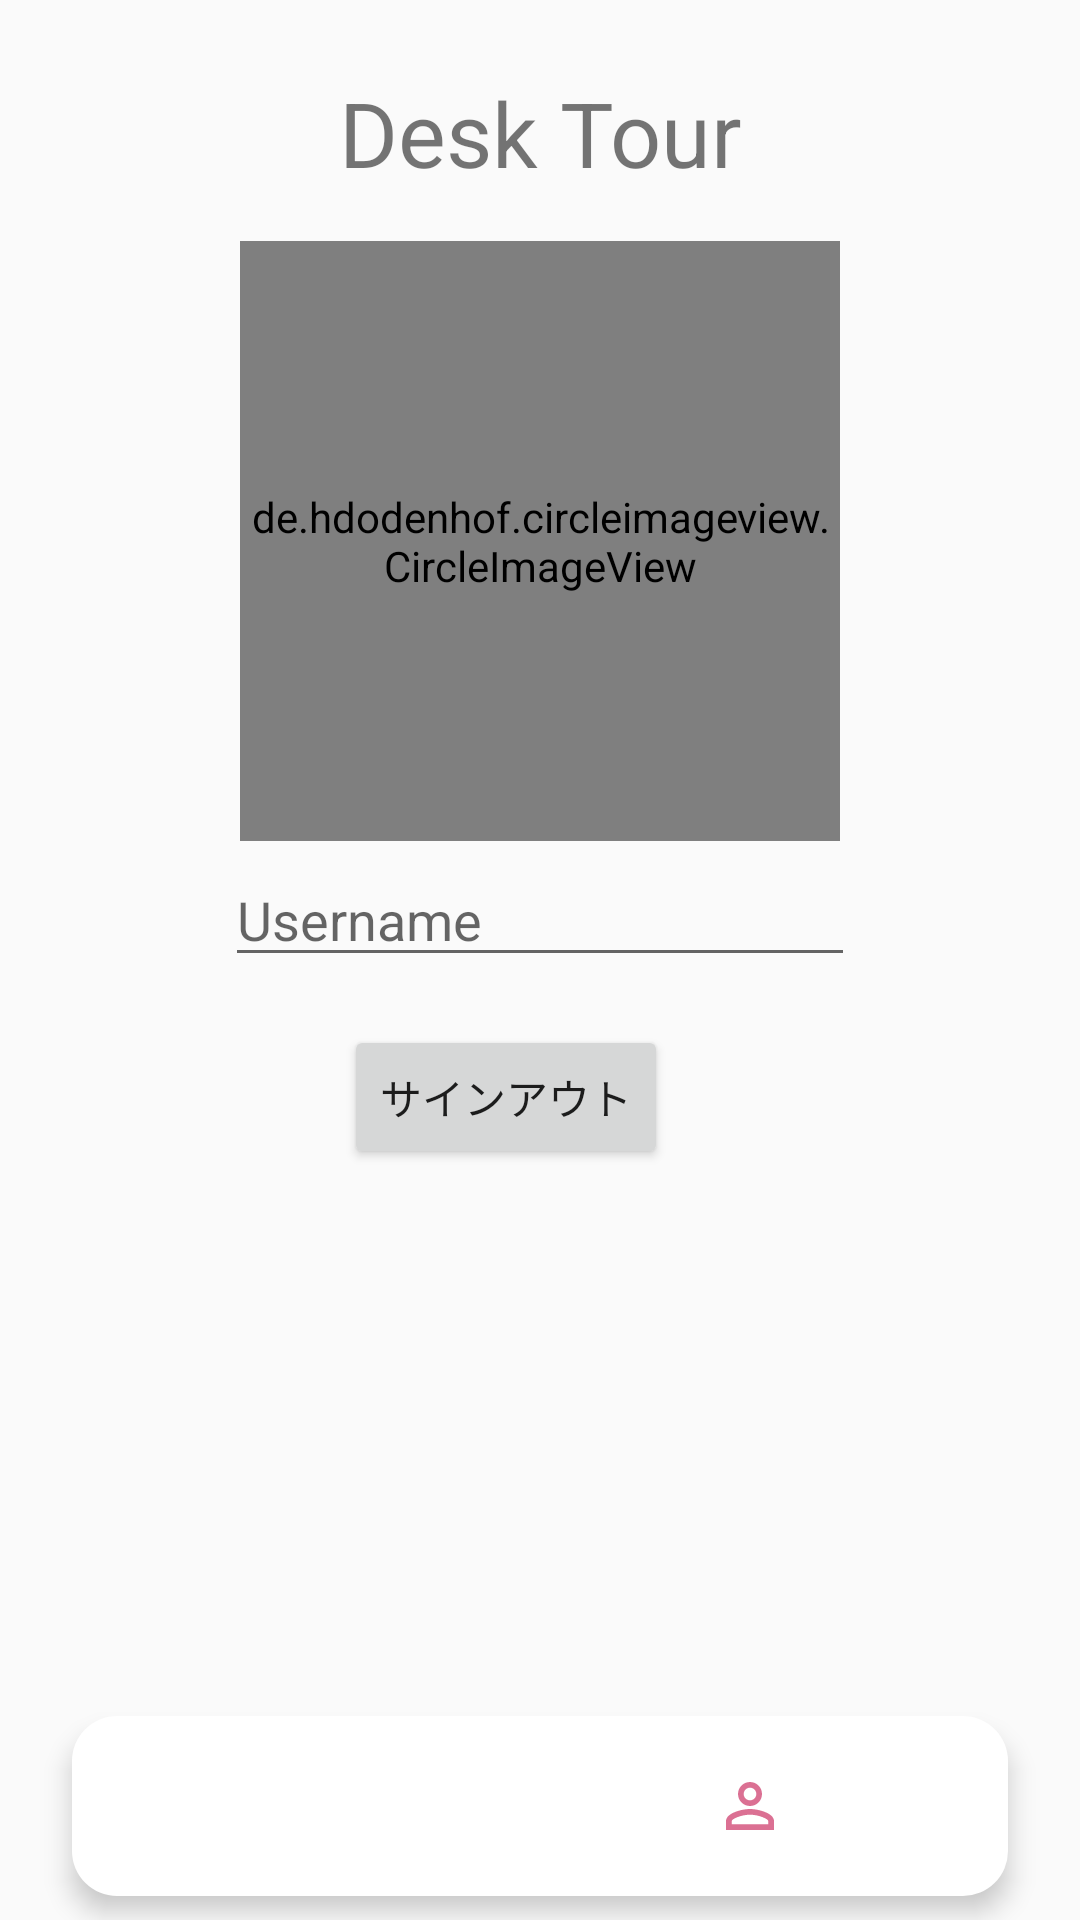

Where icons sit on this 1080px×1920px app screen, as (x1, y1, x2, y2):
person palevioletred: (726, 1782, 774, 1830)
